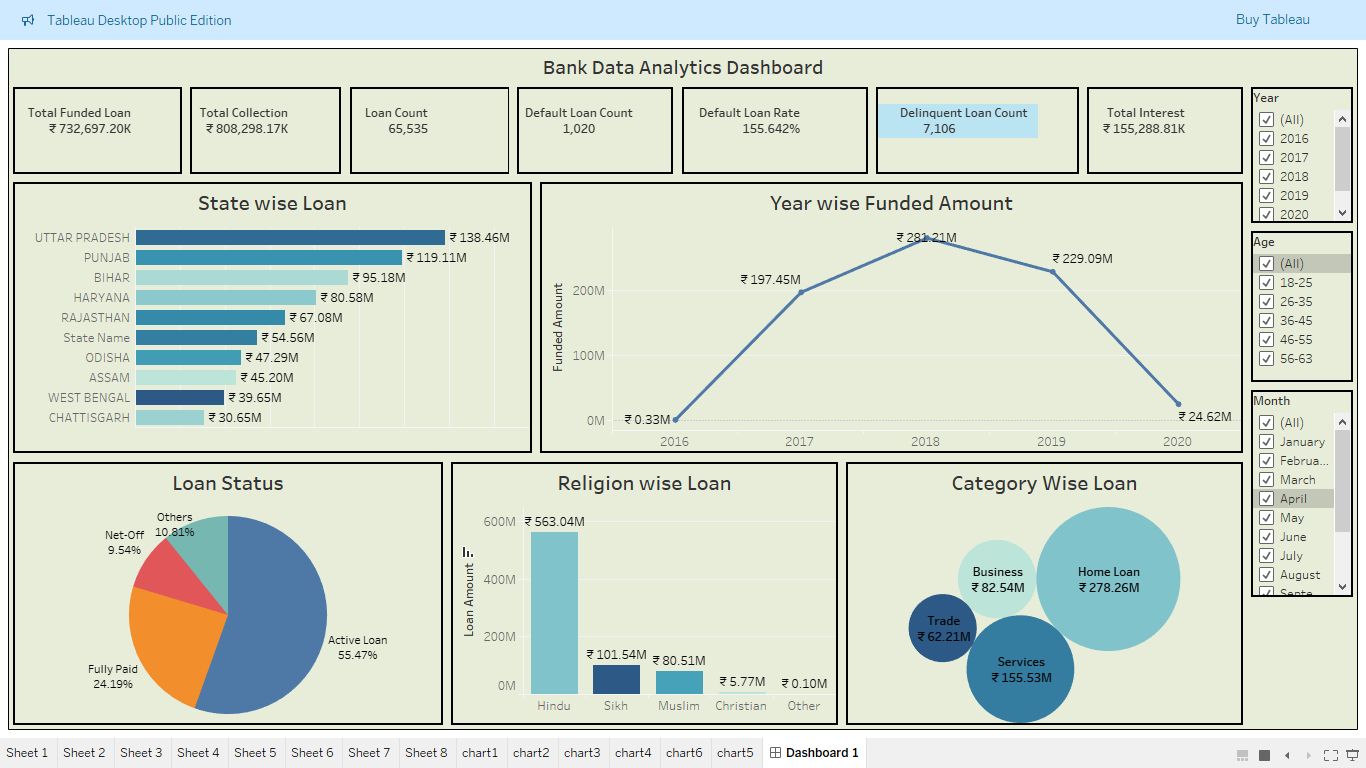

This screenshot's page, from the dashboard's own definition file:
{"tool":"tableau","page":{"name":"Dashboard 1","canvas":[1000,1000],"units":"permille","ordinal":0},"visuals":[{"type":"title","box":[7.8,16.3,984.5,61.6]},{"type":"worksheet","title":"Sheet 1","mark":"Automatic","box":[7.8,77.9,127.4,133.4]},{"type":"worksheet","title":"Sheet 2","mark":"Automatic","box":[135.2,77.9,114.5,133.4]},{"type":"worksheet","title":"Sheet 4","mark":"Automatic","box":[249.7,77.9,120.6,133.4]},{"type":"worksheet","title":"Sheet 5","mark":"Automatic","box":[370.3,77.9,118,133.4]},{"type":"worksheet","title":"Sheet 6","mark":"Automatic","box":[488.3,77.9,139.6,133.4]},{"type":"worksheet","title":"Sheet 7","mark":"Automatic","box":[627.8,77.9,151.6,133.4]},{"type":"worksheet","title":"Sheet 3","mark":"Automatic","box":[779.4,77.9,118.1,133.4]},{"type":"filter","title":"chart3","param":"[federated.1i6csdg1n83fkr11o01yf048f96a].[yr:Disbursement Date:ok]","box":[897.5,77.9,94.8,260.9]},{"type":"worksheet","title":"chart1","mark":"Automatic","rows":["State Name"],"cols":["Loan Amount"],"box":[7.8,211.3,378.7,391.9]},{"type":"worksheet","title":"chart3","mark":"Automatic","rows":["Funded Amount"],"cols":["Disbursement Date"],"box":[386.5,211.3,511,391.9]},{"type":"filter","title":"chart2","param":"[federated.1i6csdg1n83fkr11o01yf048f96a].[none:Age:nk]","box":[897.5,338.8,94.8,288]},{"type":"worksheet","title":"chart5","mark":"Pie","box":[7.8,603.2,315,380.5]},{"type":"worksheet","title":"chart2","mark":"Automatic","rows":["Loan Amount"],"cols":["Religion"],"box":[322.7,603.2,283.6,380.5]},{"type":"worksheet","title":"chart4","mark":"Circle","box":[606.3,603.2,291.2,380.5]},{"type":"filter","title":"chart3","param":"[federated.1i6csdg1n83fkr11o01yf048f96a].[mn:Disbursement Date:ok]","box":[897.5,626.8,94.8,356.9]}]}

Visuals, with their boxes on the dashboard's canvas, which has no fixed pixel size, in thousandths of its width and height (x1, y1, x2, y2). These are canvas units, not pixel positions in the 1366x768 screenshot, which may show the page scaled, cropped or inside an application window:
title: <box>8,16,992,78</box>
"Sheet 1" worksheet: <box>8,78,135,211</box>
"Sheet 2" worksheet: <box>135,78,250,211</box>
"Sheet 4" worksheet: <box>250,78,370,211</box>
"Sheet 5" worksheet: <box>370,78,488,211</box>
"Sheet 6" worksheet: <box>488,78,628,211</box>
"Sheet 7" worksheet: <box>628,78,779,211</box>
"Sheet 3" worksheet: <box>779,78,898,211</box>
"chart3" filter: <box>898,78,992,339</box>
"chart1" worksheet: <box>8,211,386,603</box>
"chart3" worksheet: <box>386,211,898,603</box>
"chart2" filter: <box>898,339,992,627</box>
"chart5" worksheet (Pie marks): <box>8,603,323,984</box>
"chart2" worksheet: <box>323,603,606,984</box>
"chart4" worksheet (Circle marks): <box>606,603,898,984</box>
"chart3" filter: <box>898,627,992,984</box>
